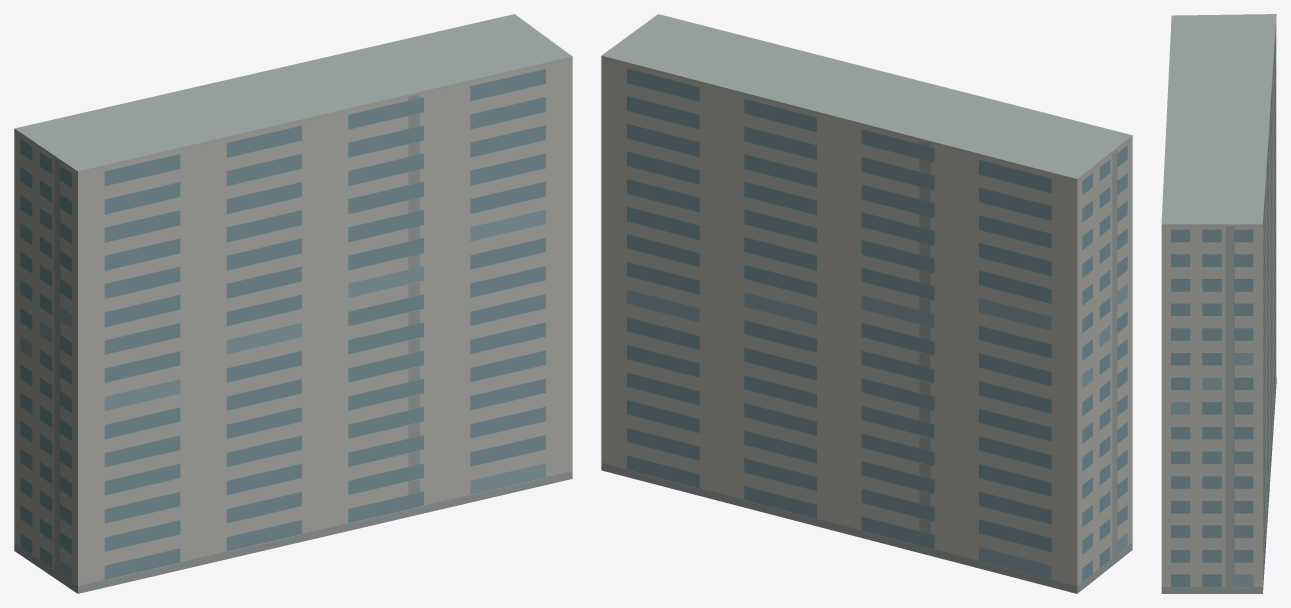
File: residential-785aea75-f71e-497e-b9ce-de14fff253a3.glb
3 renders of one model, left to right at view 1: azimuth 30°, elevation 25°; view 2: azimuth 150°, elevation 25°; view 3: azimuth 270°, elevation 25°, orthographic. The views are drawn at different scales.
Visible parts, largest first — view 1: residential-785aea75-f71e-497e-b9ce-de14fff253a3.tmp; view 2: residential-785aea75-f71e-497e-b9ce-de14fff253a3.tmp; view 3: residential-785aea75-f71e-497e-b9ce-de14fff253a3.tmp.
Part boxes in pixels (bbox=[...]): residential-785aea75-f71e-497e-b9ce-de14fff253a3.tmp: bbox=[14, 14, 572, 593]; residential-785aea75-f71e-497e-b9ce-de14fff253a3.tmp: bbox=[601, 14, 1132, 593]; residential-785aea75-f71e-497e-b9ce-de14fff253a3.tmp: bbox=[1161, 14, 1276, 593].
Bounding box in the file's own units: 51.25 × 42 × 11.85.
